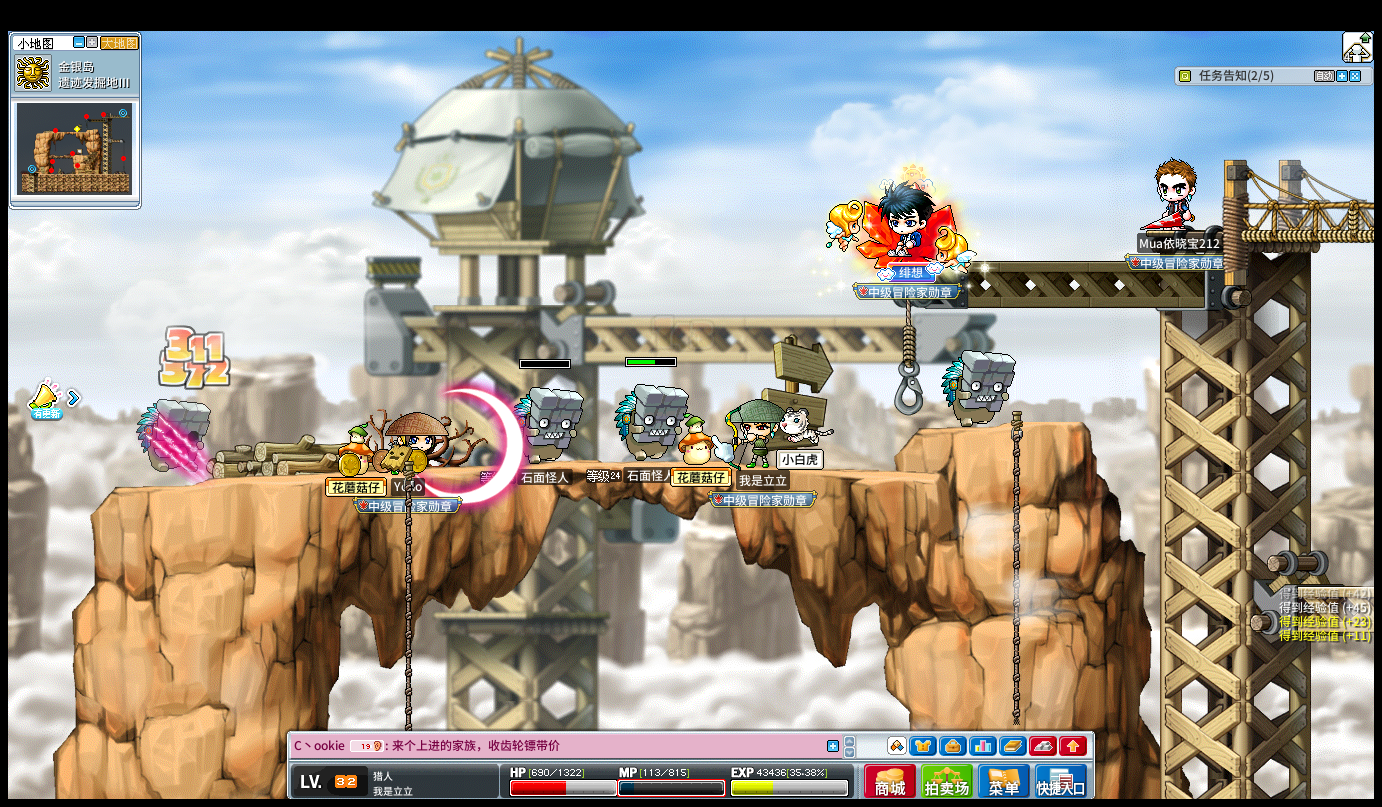floor: (338, 458, 843, 471), (912, 417, 1086, 433), (1278, 583, 1375, 596)
monster: (135, 398, 211, 482), (613, 382, 690, 462), (941, 349, 1016, 428), (517, 384, 585, 461)
rope: (1008, 406, 1023, 730), (399, 465, 413, 807), (401, 467, 414, 740)
